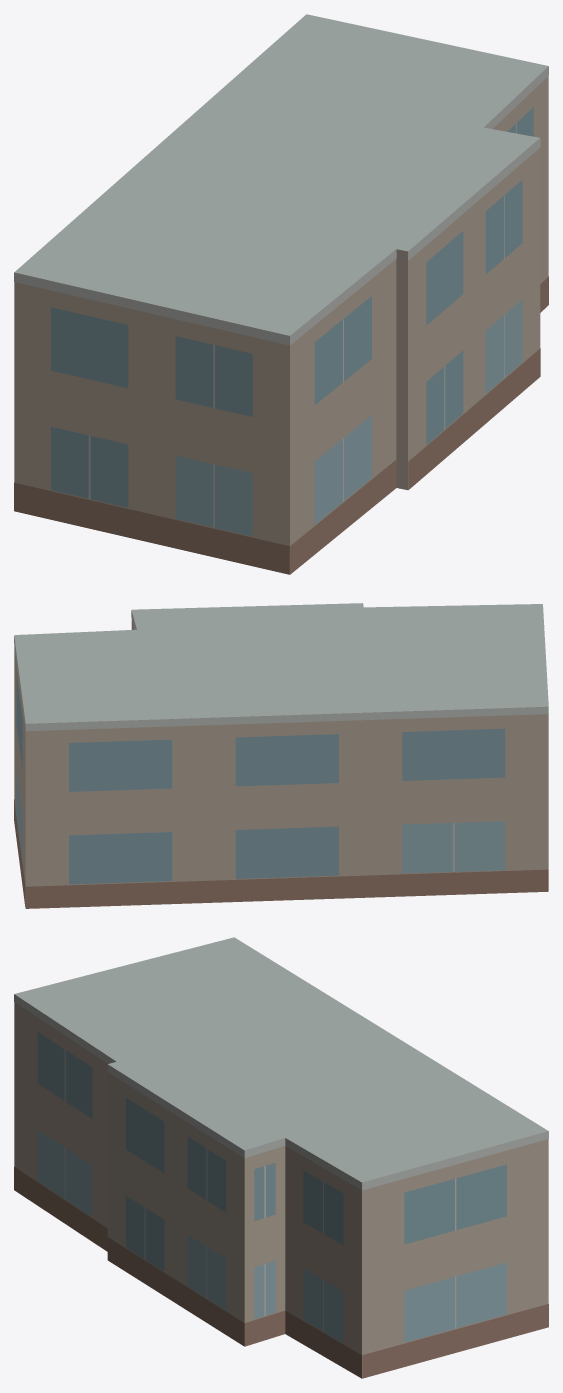
The model's file is survey-upis-32954202.glb.
The picture shows the model from 3 angles, top to bottom: view 1: azimuth 30°, elevation 25°; view 2: azimuth 150°, elevation 25°; view 3: azimuth 270°, elevation 25°; orthographic projection. The views are drawn at different scales.
Visible parts, largest first — view 1: survey-upis-32954202.tmp; view 2: survey-upis-32954202.tmp; view 3: survey-upis-32954202.tmp.
Part boxes in pixels (bbox=[...]): survey-upis-32954202.tmp: bbox=[14, 14, 548, 574]; survey-upis-32954202.tmp: bbox=[14, 603, 548, 908]; survey-upis-32954202.tmp: bbox=[14, 937, 548, 1378].
Bounding box in the file's own units: 16.38 × 6.1 × 15.09.
